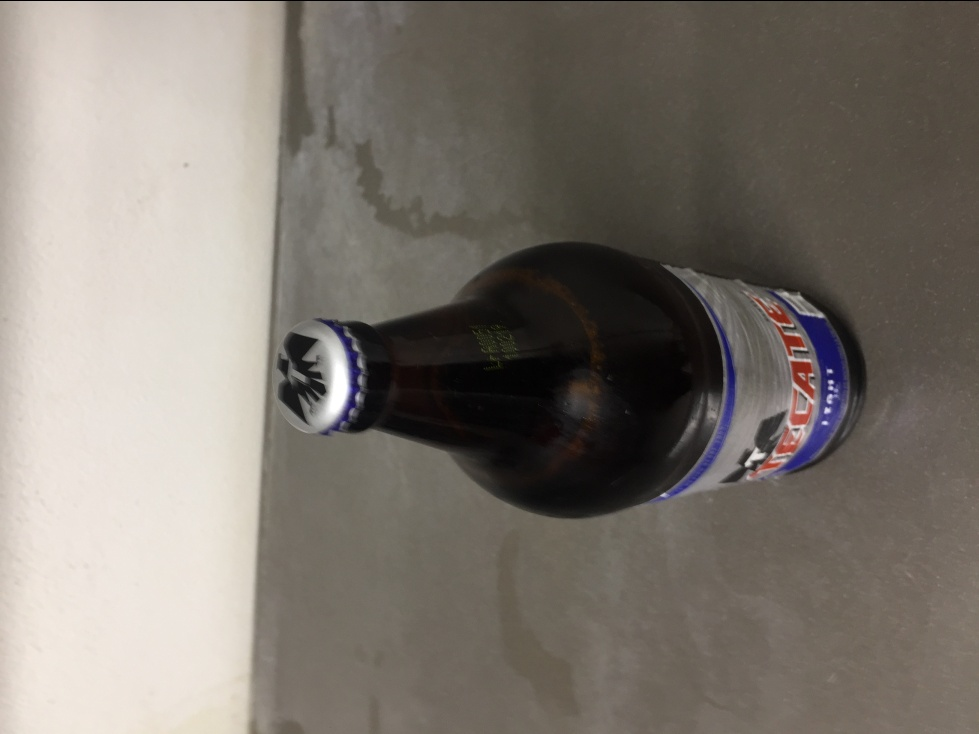tecateC: (269, 239, 870, 527)
